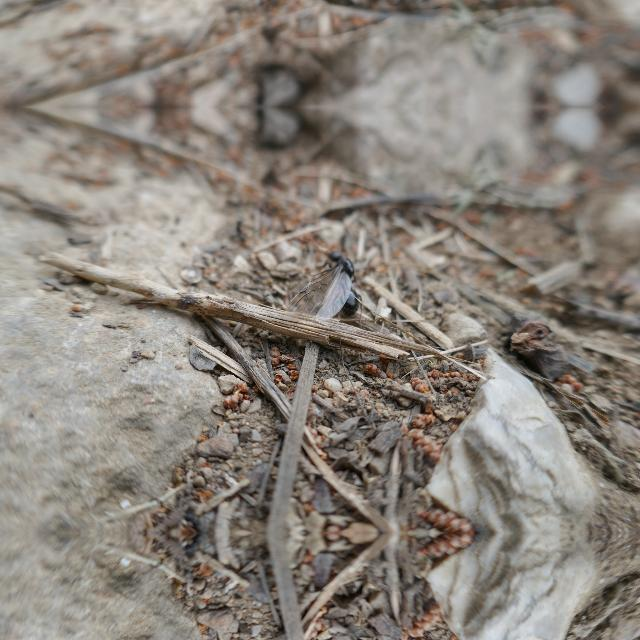Tetramorium: (312, 233, 372, 325)
